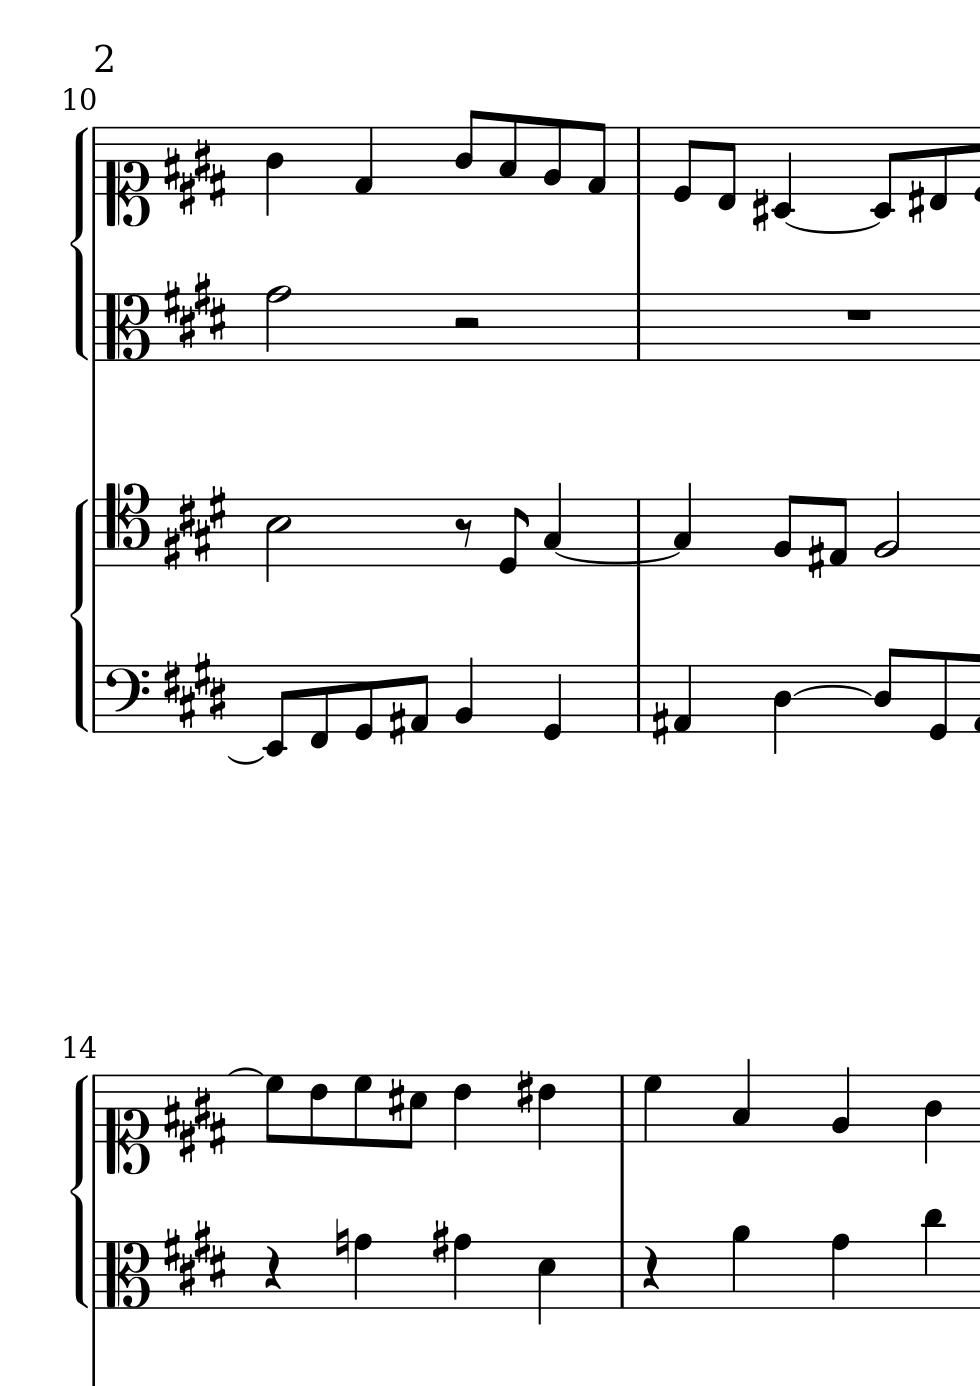0: (78, 85, 97, 113)
1: (62, 86, 76, 113), (62, 1034, 76, 1062)
2: (92, 42, 113, 73)
2_2: (872, 490, 902, 566)
2_5: (263, 497, 290, 583)
2_7: (263, 284, 290, 358)
4: (78, 1034, 97, 1062)
4_-2: (771, 125, 793, 220)
4_0: (541, 663, 563, 742)
4_1: (352, 126, 374, 196), (672, 663, 693, 734)
4_11: (921, 1205, 945, 1311)
4_2: (452, 655, 476, 735), (832, 1064, 852, 1143)
4_3: (730, 1058, 752, 1143), (541, 483, 563, 566), (671, 483, 692, 566)
4_4: (921, 1073, 943, 1166), (771, 664, 792, 755), (264, 126, 285, 216)
4_5: (535, 1240, 557, 1327)
4_6: (449, 1073, 472, 1152), (535, 1074, 556, 1153)
4_7: (641, 1073, 663, 1145)
4_8: (828, 1232, 852, 1312), (351, 1232, 374, 1311), (451, 1232, 474, 1311)
4_9: (729, 1223, 751, 1310)
8_-1: (927, 125, 949, 213), (715, 125, 737, 212), (308, 663, 329, 750)
8_-2: (868, 125, 900, 220), (260, 664, 291, 757)
8_0: (497, 497, 528, 575), (926, 650, 949, 744), (671, 126, 698, 204), (352, 663, 374, 742)
8_1: (584, 121, 607, 197), (827, 496, 848, 568), (409, 663, 430, 735)
8_2: (771, 494, 799, 567), (541, 117, 563, 196)
8_3: (496, 113, 518, 196)
8_4: (872, 646, 902, 734), (453, 109, 482, 197)
8_5: (402, 1073, 428, 1151)
8_6: (307, 1073, 327, 1147)
8_7: (351, 1073, 372, 1147), (263, 1073, 284, 1145)
Brace: (68, 122, 89, 364), (69, 1072, 89, 1313), (69, 497, 89, 733)
Cclef: (102, 291, 148, 362), (102, 1239, 148, 1310)
E_S: (160, 483, 229, 571), (161, 650, 229, 731), (160, 137, 227, 216), (160, 1218, 227, 1298), (160, 1085, 227, 1163), (161, 271, 227, 350)
Fclef: (102, 663, 148, 734)
Natural: (332, 1216, 350, 1267)
Rests1: (843, 306, 874, 323)
Rests2: (451, 315, 482, 331)
Rests4: (258, 1244, 285, 1293), (638, 1243, 664, 1295)
Rests8: (453, 516, 474, 549)
Sharp: (648, 700, 670, 747), (428, 1217, 450, 1266), (385, 1076, 406, 1124), (906, 179, 925, 226), (387, 700, 406, 747), (751, 186, 769, 233), (515, 1068, 533, 1116), (807, 533, 825, 580)
Single_barline: (629, 126, 647, 195), (630, 664, 647, 732), (613, 1241, 630, 1308), (614, 1076, 631, 1141), (87, 499, 103, 568), (630, 293, 646, 359), (87, 1241, 102, 1310), (631, 499, 647, 563), (87, 665, 102, 733), (87, 128, 102, 195), (87, 1075, 102, 1142), (88, 292, 102, 362)
Slur: (797, 683, 873, 698), (226, 753, 264, 766), (228, 1066, 264, 1077)
Soprano_Cclef: (105, 124, 148, 227), (105, 1072, 148, 1175)
Tensor_Cclef: (103, 481, 148, 567)
